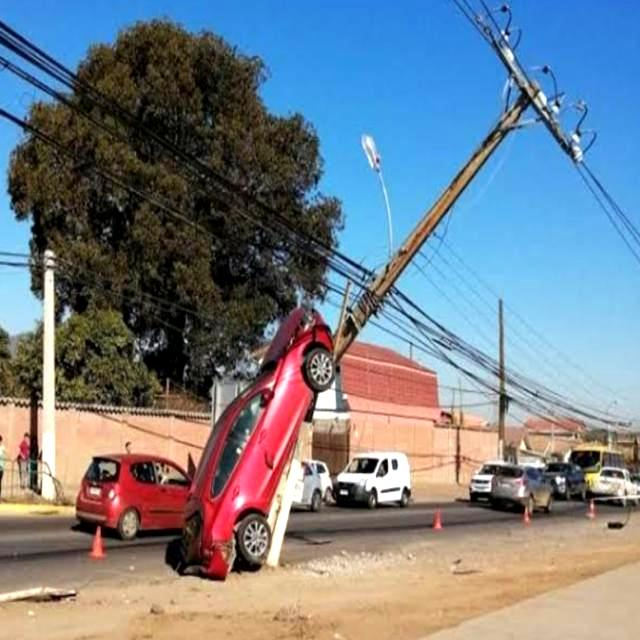Broken Pole: (261, 4, 601, 564)
